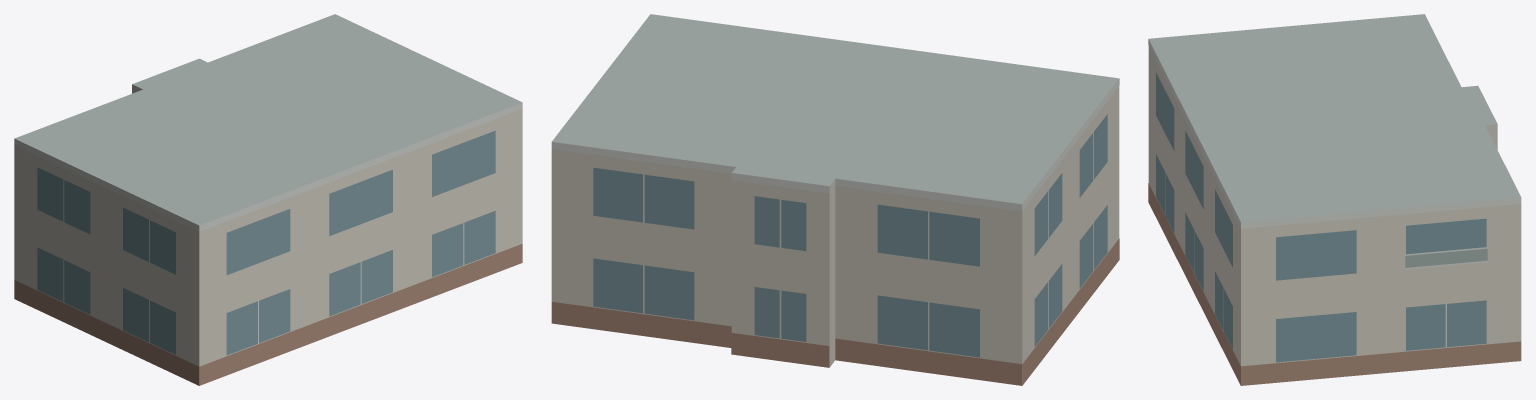
File: survey-upis-32698339.glb
The picture shows the model from 3 angles, left to right: view 1: azimuth 30°, elevation 25°; view 2: azimuth 150°, elevation 25°; view 3: azimuth 270°, elevation 25°; orthographic projection. The views are drawn at different scales.
Parts seen in each view (by area): view 1: survey-upis-32698339.tmp; view 2: survey-upis-32698339.tmp; view 3: survey-upis-32698339.tmp.
Part boxes in pixels (x1,y1,x2,y2): survey-upis-32698339.tmp: [14, 14, 522, 385]; survey-upis-32698339.tmp: [551, 14, 1119, 385]; survey-upis-32698339.tmp: [1148, 14, 1521, 385].
Bounding box in the file's own units: 16.66 × 6.1 × 12.61.
